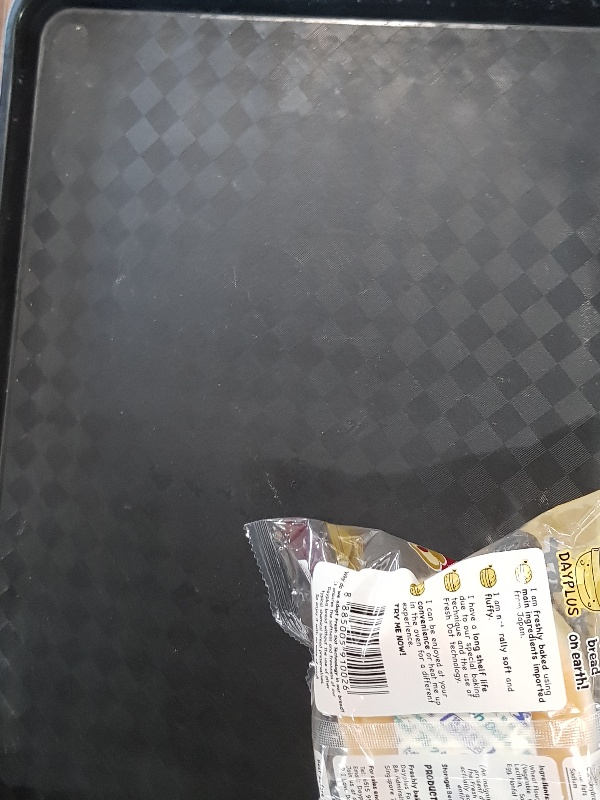Dayplus Red Bean: (243, 487, 599, 800)
